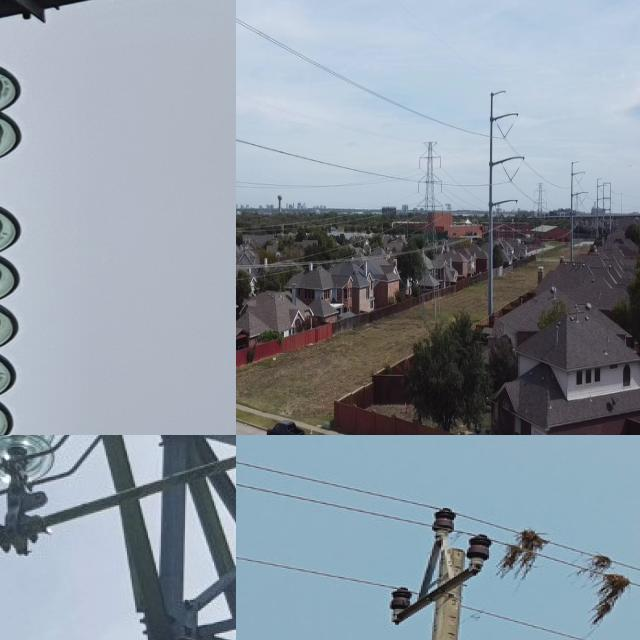杆塔: (27, 435, 236, 640), (411, 132, 448, 326)
植被遮挡: (574, 554, 633, 627), (498, 525, 553, 579)
正常绝缘子: (0, 435, 66, 554), (500, 117, 517, 143), (508, 161, 523, 186), (499, 163, 514, 184), (495, 120, 507, 142)
